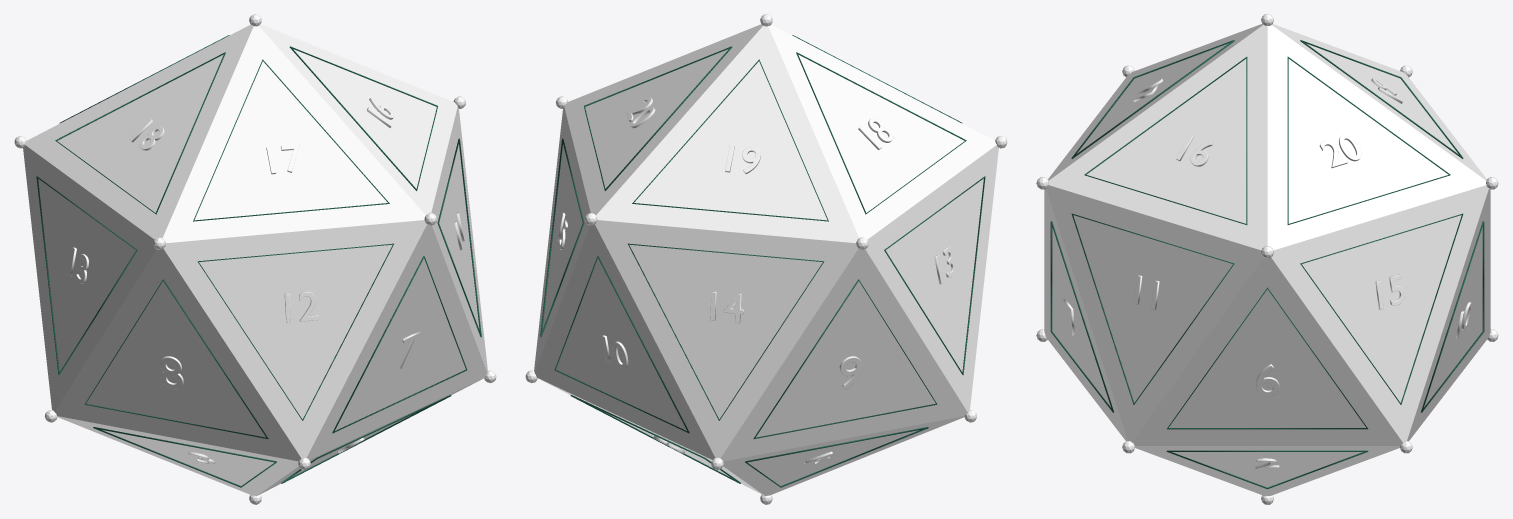
The model's file is D20_20面体骰子.glb.
3 renders of one model, left to right at view 1: azimuth 30°, elevation 25°; view 2: azimuth 150°, elevation 25°; view 3: azimuth 270°, elevation 25°, orthographic.
Parts seen in each view (by area): view 1: D20_Aged_Bronze_Edges, D20_Occult_Face_Borders, D20_Vertex_Studs, Face_08_Number_8; view 2: D20_Aged_Bronze_Edges, D20_Occult_Face_Borders, D20_Vertex_Studs; view 3: D20_Aged_Bronze_Edges, D20_Occult_Face_Borders, D20_Vertex_Studs, Face_20_Number_20.
Part boxes in pixels (x1=…): D20_Aged_Bronze_Edges: x1=23, y1=24, x2=487, y2=496; D20_Occult_Face_Borders: x1=36, y1=35, x2=481, y2=487; D20_Vertex_Studs: x1=14, y1=14, x2=496, y2=504; Face_08_Number_8: x1=160, y1=356, x2=183, y2=389; D20_Aged_Bronze_Edges: x1=534, y1=24, x2=998, y2=496; D20_Occult_Face_Borders: x1=540, y1=35, x2=985, y2=487; D20_Vertex_Studs: x1=525, y1=14, x2=1007, y2=504; D20_Aged_Bronze_Edges: x1=1044, y1=24, x2=1490, y2=496; D20_Occult_Face_Borders: x1=1050, y1=40, x2=1484, y2=489; D20_Vertex_Studs: x1=1036, y1=14, x2=1498, y2=504; Face_20_Number_20: x1=1319, y1=134, x2=1361, y2=168.
Bounding box in the file's own units: 5.58 × 6.23 × 5.32.
